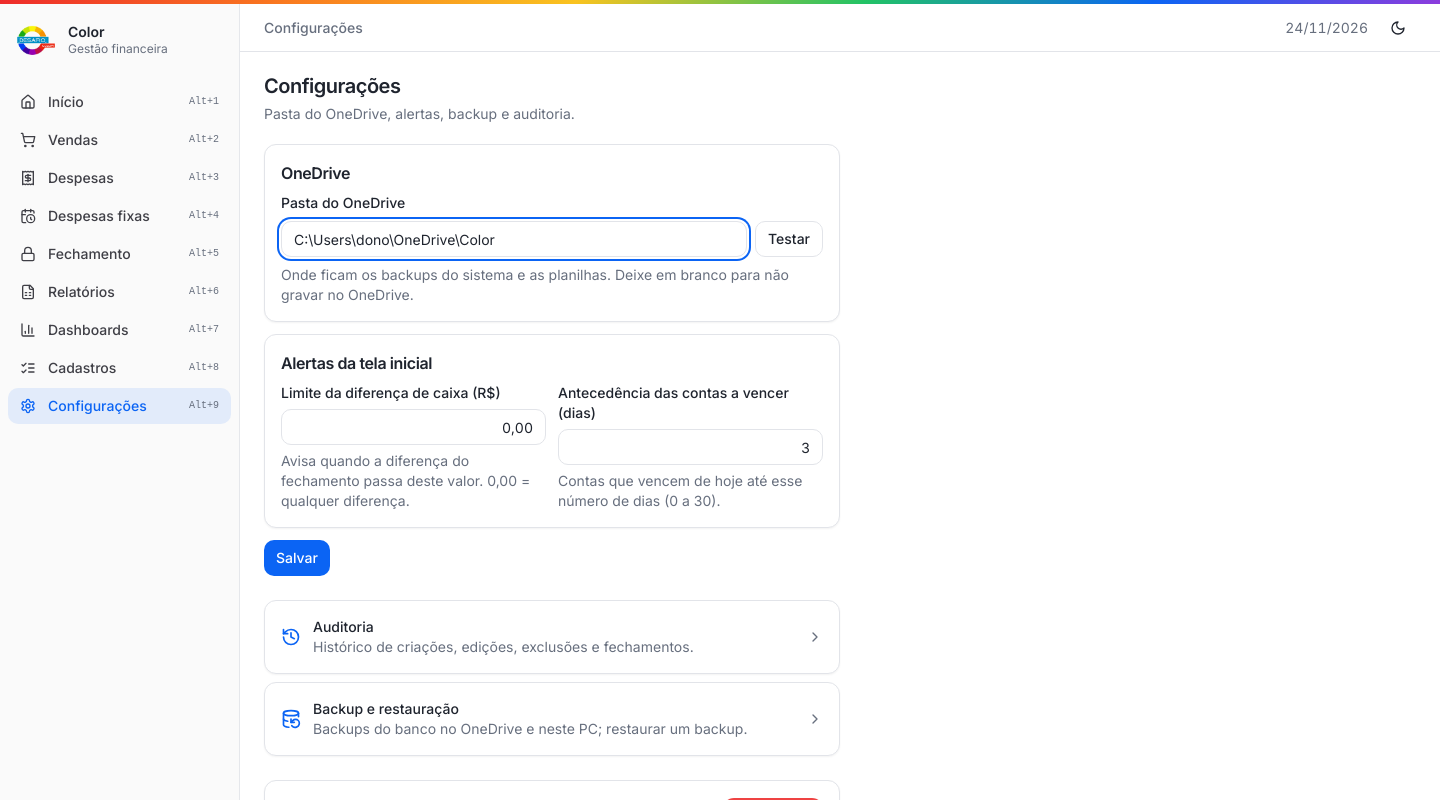
Test case: FR-33: Configurações form › FR-33: an unreadable amount is refused on the client with a pt-BR message
Expected: the field labelled "Pasta do OneDrive" holds "C:\\Users\\dono\\OneDrive\\Color", left=281, top=221, right=747, bottom=257
Replace the text in the field labelled "Limite da diferença de caixa (R$)" with "abc" at (414, 427), box left=281, top=409, right=546, bottom=445
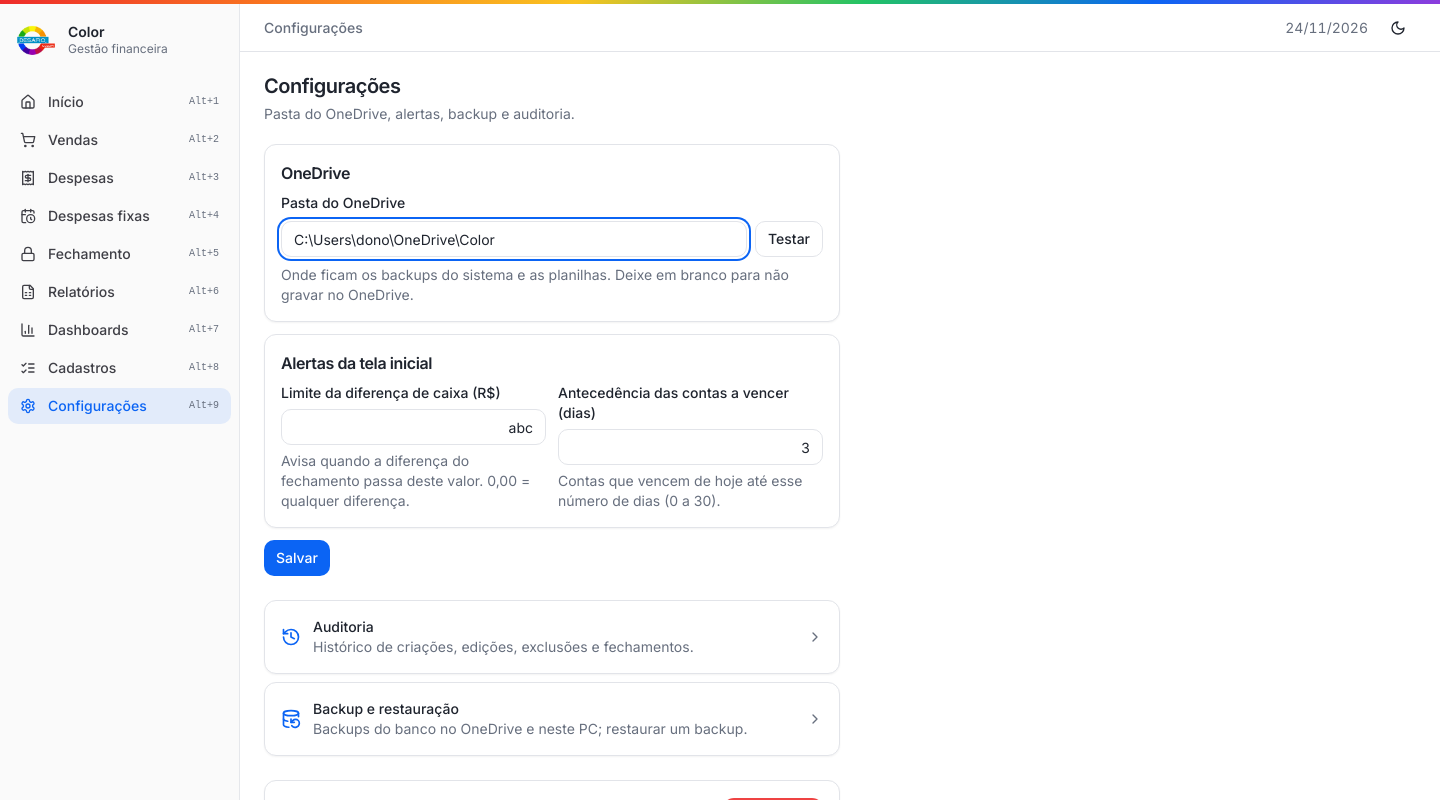
Submit the form named "Configurações", box left=264, top=144, right=840, bottom=576
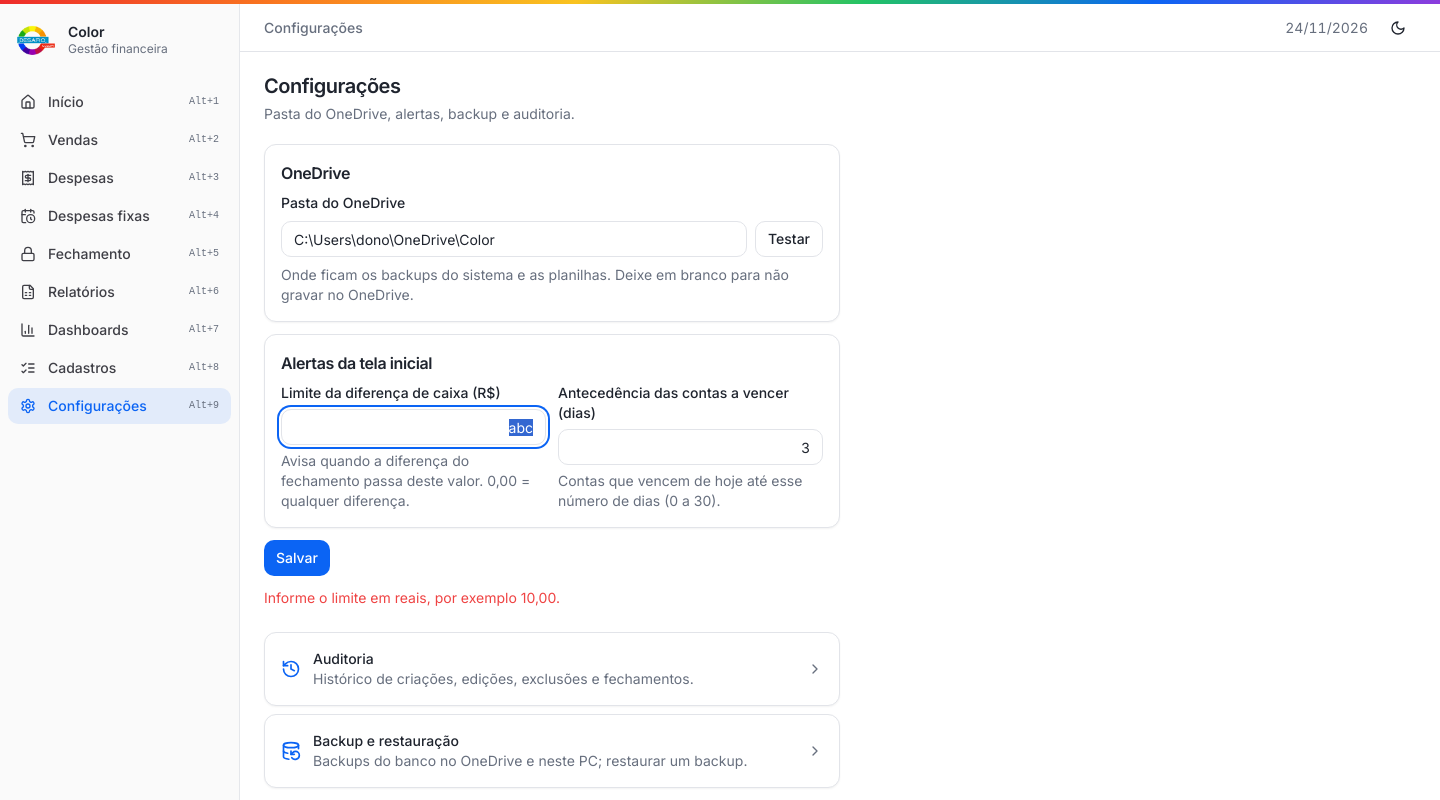
Expected: the message reads "Informe o limite em reais, por exemplo 10,00.", left=264, top=589, right=560, bottom=606
